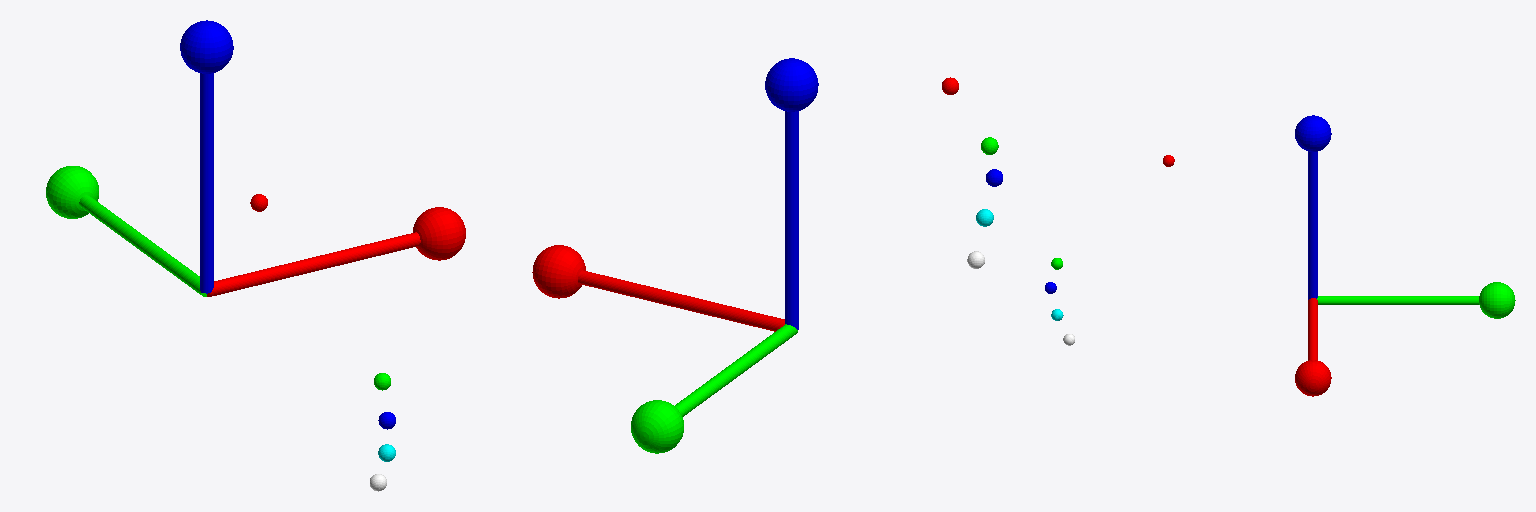
The robot description file, URDF, robot "inspire_hand_left":
<robot name="inspire_hand_left">

  <mujoco>
    <compiler meshdir="./meshes" discardvisual="false" />
  </mujoco>

  <link name="L_hand_base_link">
    <inertial>
      <origin xyz="-0.002551 -0.066047 -0.0019357" rpy="0 0 0" />
      <mass value="0.14143" />
      <inertia ixx="0.0001234" ixy="2.1995E-06" ixz="-1.7694E-06" iyy="8.3835E-05" iyz="1.5968E-06" izz="7.7231E-05" />
    </inertial>
    <visual>
      <origin xyz="0 0 0" rpy="0 0 0" />
      <geometry>
        <mesh filename="./meshes/L_hand_base_link.STL" />
      </geometry>
      <material name="">
        <color rgba="1.0 1.0 1.0 1" />
      </material>
    </visual>
    <collision>
      <origin xyz="0 0 0" rpy="0 0 0" />
      <geometry>
        <mesh filename="./meshes/L_hand_base_link.STL" />
      </geometry>
    </collision>
    <visual>
      <origin xyz="0.075 0 0" rpy="0 -1.5708 0"/>
      <geometry>
        <cylinder length="0.15" radius="0.004"/>
      </geometry>
      <material name="red">
        <color rgba="1 0 0 1"/>
      </material>
    </visual>
    <visual>
      <origin xyz="0.15 0 0" rpy="0 -1.5708 0"/>
      <geometry>
        <sphere radius="0.015"/>
      </geometry>
      <material name="red">
        <color rgba="1 0 0 1"/>
      </material>
    </visual>

    <visual>
      <origin xyz="0 0.075 0" rpy="1.5708 0 0"/>
      <geometry>
        <cylinder length="0.15" radius="0.004"/>
      </geometry>
      <material name="green">
        <color rgba="0 1 0 1"/>
      </material>
    </visual>
    <visual>
      <origin xyz="0 0.15 0" rpy="1.5708 0 0"/>
      <geometry>
        <sphere radius="0.015"/>
      </geometry>
      <material name="green">
        <color rgba="0 1 0 1"/>
      </material>
    </visual>

    <visual>
      <origin xyz="0 0 0.075" rpy="0 0 0"/>
      <geometry>
        <cylinder length="0.15" radius="0.004"/>
      </geometry>
      <material name="blue">
        <color rgba="0 0 1 1"/>
      </material>
    </visual>
    <visual>
      <origin xyz="0 0 0.15" rpy="0 0 0"/>
      <geometry>
        <sphere radius="0.015"/>
      </geometry>
      <material name="blue">
        <color rgba="0 0 1 1"/>
      </material>
    </visual>
  </link>

  <link name="L_thumb_proximal_base">
    <inertial>
      <origin xyz="0.0048817 0.00038782 -0.00722" rpy="0 0 0" />
      <mass value="0.0018869" />
      <inertia ixx="5.5158E-08" ixy="-1.1803E-08" ixz="-4.6743E-09" iyy="8.2164E-08" iyz="-1.3521E-09" izz="6.7434E-08" />
    </inertial>
    <visual>
      <origin xyz="0 0 0" rpy="0 0 0" />
      <geometry>
        <mesh filename="./meshes/Link11_L.STL" />
      </geometry>
      <material name="">
        <color rgba="1.0 1.0 1.0 1" />
      </material>
    </visual>
    <collision>
      <origin xyz="0 0 0" rpy="0 0 0" />
      <geometry>
        <mesh filename="./meshes/Link11_L.STL" />
      </geometry>
    </collision>
  </link>

  <joint name="L_thumb_proximal_yaw_joint" type="revolute">
    <origin xyz="-0.01696 -0.0691 0.02045" rpy="1.5708 -1.5708 0" />
    <parent link="L_hand_base_link" />
    <child link="L_thumb_proximal_base" />
    <axis xyz="0 0 1" />
    <limit lower="-0.1" upper="1.3" effort="1" velocity="0.5" />
  </joint>

  <link name="L_thumb_proximal">
    <inertial>
      <origin xyz="0.021936 -0.01279 -0.0080386" rpy="0 0 0" />
      <mass value="0.0066101" />
      <inertia ixx="1.5693E-06" ixy="7.8339E-07" ixz="8.5959E-10" iyy="1.7356E-06" iyz="1.0378E-09" izz="2.787E-06" />
    </inertial>
    <visual>
      <origin xyz="0 0 0" rpy="0 0 0" />
      <geometry>
        <mesh filename="./meshes/Link12_L.STL" />
      </geometry>
      <material name="">
        <color rgba="1.0 1.0 1.0 1" />
      </material>
    </visual>
    <collision>
      <origin xyz="0 0 0" rpy="0 0 0" />
      <geometry>
        <mesh filename="./meshes/Link12_L.STL" />
      </geometry>
    </collision>
  </link>

  <joint name="L_thumb_proximal_pitch_joint" type="revolute">
    <origin xyz="0.0099867 0.0098242 -0.0089" rpy="-1.5708 0 0.16939" />
    <parent link="L_thumb_proximal_base" />
    <child link="L_thumb_proximal" />
    <axis xyz="0 0 -1" />
    <limit lower="0.0" upper="0.5" effort="1" velocity="0.5" />
  </joint>

  <link name="L_thumb_intermediate">
    <inertial>
      <origin xyz="0.0095531 0.0016282 -0.0072002" rpy="0 0 0" />
      <mass value="0.0037844" />
      <inertia ixx="3.6981E-07" ixy="9.8603E-08" ixz="-2.8173E-12" iyy="3.2395E-07" iyz="-2.8028E-12" izz="4.6532E-07" />
    </inertial>
    <visual>
      <origin xyz="0 0 0" rpy="0 0 0" />
      <geometry>
        <mesh filename="./meshes/Link13_L.STL" />
      </geometry>
      <material name="">
        <color rgba="1.0 1.0 1.0 1" />
      </material>
    </visual>
    <collision>
      <origin xyz="0 0 0" rpy="0 0 0" />
      <geometry>
        <mesh filename="./meshes/Link13_L.STL" />
      </geometry>
    </collision>
  </link>

  <joint name="L_thumb_intermediate_joint" type="revolute">
    <origin xyz="0.04407 -0.034553 -0.0008" rpy="0 0 0" />
    <parent link="L_thumb_proximal" />
    <child link="L_thumb_intermediate" />
    <axis xyz="0 0 -1" />
    <limit lower="0" upper="0.8" effort="1" velocity="0.5" />
    <mimic joint="L_thumb_proximal_pitch_joint" multiplier="1.6" offset="0" />
  </joint>

  <link name="L_thumb_distal">
    <inertial>
      <origin xyz="0.0092888 -0.004953 -0.0060033" rpy="0 0 0" />
      <mass value="0.003344" />
      <inertia ixx="1.3632E-07" ixy="5.6787E-08" ixz="-9.1939E-11" iyy="1.4052E-07" iyz="1.2145E-10" izz="2.0026E-07" />
    </inertial>
    <visual>
      <origin xyz="0 0 0" rpy="0 0 0" />
      <geometry>
        <mesh filename="./meshes/Link14_L.STL" />
      </geometry>
      <material name="">
        <color rgba="1.0 1.0 1.0 1" />
      </material>
    </visual>
    <collision>
      <origin xyz="0 0 0" rpy="0 0 0" />
      <geometry>
        <mesh filename="./meshes/Link14_L.STL" />
      </geometry>
    </collision>
  </link>

  <joint name="L_thumb_distal_joint" type="revolute">
    <origin xyz="0.020248 -0.010156 -0.0012" rpy="0 0 0" />
    <parent link="L_thumb_intermediate" />
    <child link="L_thumb_distal" />
    <axis xyz="0 0 -1" />
    <limit lower="0" upper="1.2" effort="1" velocity="0.5" />
    <mimic joint="L_thumb_proximal_pitch_joint" multiplier="2.4" offset="0" />
  </joint>

  <link name="L_index_proximal">
    <inertial>
      <origin xyz="0.0012971 -0.011934 -0.0059998" rpy="0 0 0" />
      <mass value="0.0042405" />
      <inertia ixx="6.6215E-07" ixy="1.8442E-08" ixz="1.3746E-12" iyy="2.1167E-07" iyz="-1.4773E-11" izz="6.9402E-07" />
    </inertial>
    <visual>
      <origin xyz="0 0 0" rpy="0 0 0" />
      <geometry>
        <mesh filename="./meshes/Link15_L.STL" />
      </geometry>
      <material name="">
        <color rgba="1.0 1.0 1.0 1" />
      </material>
    </visual>
    <collision>
      <origin xyz="0 0 0" rpy="0 0 0" />
      <geometry>
        <mesh filename="./meshes/Link15_L.STL" />
      </geometry>
    </collision>
  </link>

  <link name="L_thumb_tip">
    <visual>
      <origin xyz="0 0 0" rpy="0 0 0" />
      <geometry>
        <sphere radius="0.005"/>
      </geometry>
      <material name="red">
        <color rgba="1 0 0 1" />
      </material>
    </visual>
  </link>
  <joint name="L_thumb_tip_joint" type="fixed">
    <parent link="L_thumb_distal"/>
    <child link="L_thumb_tip"/>
    <origin rpy="0 0 0" xyz="0.015 -0.013 -0.004"/>
  </joint>

  <joint name="L_index_proximal_joint" type="revolute">
    <origin xyz="0.00028533 -0.13653 0.032268" rpy="-0.034907 0 0" />
    <parent link="L_hand_base_link" />
    <child link="L_index_proximal" />
    <axis xyz="0 0 -1" />
    <limit lower="0" upper="1.7" effort="1" velocity="0.5" />
  </joint>

  <link name="L_index_intermediate">
    <inertial>
      <origin xyz="0.0021753 -0.019567 -0.005" rpy="0 0 0" />
      <mass value="0.0045682" />
      <inertia ixx="7.6284E-07" ixy="-8.063E-08" ixz="3.6797E-13" iyy="9.4308E-08" iyz="1.5743E-13" izz="7.8176E-07" />
    </inertial>
    <visual>
      <origin xyz="0 0 0" rpy="0 0 0" />
      <geometry>
        <mesh filename="./meshes/Link16_L.STL" />
      </geometry>
      <material name="">
        <color rgba="1.0 1.0 1.0 1" />
      </material>
    </visual>
    <collision>
      <origin xyz="0 0 0" rpy="0 0 0" />
      <geometry>
        <mesh filename="./meshes/Link16_L.STL" />
      </geometry>
    </collision>
  </link>

  <joint name="L_index_intermediate_joint" type="revolute">
    <origin xyz="-0.0024229 -0.032041 -0.001" rpy="0 0 0" />
    <parent link="L_index_proximal" />
    <child link="L_index_intermediate" />
    <axis xyz="0 0 -1" />
    <limit lower="0" upper="1.7" effort="1" velocity="0.5" />
    <mimic joint="L_index_proximal_joint" multiplier="1" offset="0" />
  </joint>

  <link name="L_index_tip">
    <visual>
      <origin xyz="0 0 0" rpy="0 0 0" />
      <geometry>
        <sphere radius="0.005"/>
      </geometry>
      <material name="green">
        <color rgba="0 1 0 1" />
      </material>
    </visual>
  </link>
  <joint name="L_index_tip_joint" type="fixed">
    <parent link="L_index_intermediate"/>
    <child link="L_index_tip"/>
    <origin rpy="0 0 0" xyz="-0.005 -0.04 -0.004"/>
  </joint>

  <link name="L_middle_proximal">
    <inertial>
      <origin xyz="0.0012971 -0.011934 -0.0059999" rpy="0 0 0" />
      <mass value="0.0042405" />
      <inertia ixx="6.6215E-07" ixy="1.8442E-08" ixz="1.2299E-12" iyy="2.1167E-07" iyz="-1.4484E-11" izz="6.9402E-07" />
    </inertial>
    <visual>
      <origin xyz="0 0 0" rpy="0 0 0" />
      <geometry>
        <mesh filename="./meshes/Link17_L.STL" />
      </geometry>
      <material name="">
        <color rgba="1.0 1.0 1.0 1" />
      </material>
    </visual>
    <collision>
      <origin xyz="0 0 0" rpy="0 0 0" />
      <geometry>
        <mesh filename="./meshes/Link17_L.STL" />
      </geometry>
    </collision>
  </link>

  <joint name="L_middle_proximal_joint" type="revolute">
    <origin xyz="0.00028533 -0.1371 0.01295" rpy="0 0 0" />
    <parent link="L_hand_base_link" />
    <child link="L_middle_proximal" />
    <axis xyz="0 0 -1" />
    <limit lower="0" upper="1.7" effort="1" velocity="0.5" />
  </joint>

  <link name="L_middle_intermediate">
    <inertial>
      <origin xyz="0.001921 -0.020796 -0.0049999" rpy="0 0 0" />
      <mass value="0.0050397" />
      <inertia ixx="9.5823E-07" ixy="-1.1425E-07" ixz="-2.4186E-12" iyy="1.0646E-07" iyz="3.6974E-12" izz="9.8385E-07" />
    </inertial>
    <visual>
      <origin xyz="0 0 0" rpy="0 0 0" />
      <geometry>
        <mesh filename="./meshes/Link18_L.STL" />
      </geometry>
      <material name="">
        <color rgba="1.0 1.0 1.0 1" />
      </material>
    </visual>
    <collision>
      <origin xyz="0 0 0" rpy="0 0 0" />
      <geometry>
        <mesh filename="./meshes/Link18_L.STL" />
      </geometry>
    </collision>
  </link>

  <joint name="L_middle_intermediate_joint" type="revolute">
    <origin xyz="-0.0024229 -0.032041 -0.001" rpy="0 0 0" />
    <parent link="L_middle_proximal" />
    <child link="L_middle_intermediate" />
    <axis xyz="0 0 -1" />
    <limit lower="0" upper="1.7" effort="1" velocity="0.5" />
    <mimic joint="L_middle_proximal_joint" multiplier="1" offset="0" />
  </joint>

  <link name="L_middle_tip">
    <visual>
      <origin xyz="0 0 0" rpy="0 0 0" />
      <geometry>
        <sphere radius="0.005"/>
      </geometry>
      <material name="blue">
        <color rgba="0 0 1 1" />
      </material>
    </visual>
  </link>
  <joint name="L_middle_tip_joint" type="fixed">
    <parent link="L_middle_intermediate"/>
    <child link="L_middle_tip"/>
    <origin rpy="0 0 0" xyz="-0.005 -0.045 -0.004"/>
  </joint>

  <link name="L_ring_proximal">
    <inertial>
      <origin xyz="0.0012971 -0.011934 -0.0059999" rpy="0 0 0" />
      <mass value="0.0042405" />
      <inertia ixx="6.6215E-07" ixy="1.8442E-08" ixz="9.6052E-13" iyy="2.1167E-07" iyz="-1.4124E-11" izz="6.9402E-07" />
    </inertial>
    <visual>
      <origin xyz="0 0 0" rpy="0 0 0" />
      <geometry>
        <mesh filename="./meshes/Link19_L.STL" />
      </geometry>
      <material name="">
        <color rgba="1.0 1.0 1.0 1" />
      </material>
    </visual>
    <collision>
      <origin xyz="0 0 0" rpy="0 0 0" />
      <geometry>
        <mesh filename="./meshes/Link19_L.STL" />
      </geometry>
    </collision>
  </link>

  <joint name="L_ring_proximal_joint" type="revolute">
    <origin xyz="0.00028533 -0.13691 -0.0062872" rpy="0.05236 0 0" />
    <parent link="L_hand_base_link" />
    <child link="L_ring_proximal" />
    <axis xyz="0 0 -1" />
    <limit lower="0" upper="1.7" effort="1" velocity="0.5" />
  </joint>

  <link name="L_ring_intermediate">
    <inertial>
      <origin xyz="0.0021753 -0.019567 -0.005" rpy="0 0 0" />
      <mass value="0.0045682" />
      <inertia ixx="7.6285E-07" ixy="-8.0631E-08" ixz="3.3472E-14" iyy="9.4308E-08" iyz="-4.4773E-13" izz="7.8176E-07" />
    </inertial>
    <visual>
      <origin xyz="0 0 0" rpy="0 0 0" />
      <geometry>
        <mesh filename="./meshes/Link20_L.STL" />
      </geometry>
      <material name="">
        <color rgba="1.0 1.0 1.0 1" />
      </material>
    </visual>
    <collision>
      <origin xyz="0 0 0" rpy="0 0 0" />
      <geometry>
        <mesh filename="./meshes/Link20_L.STL" />
      </geometry>
    </collision>
  </link>

  <joint name="L_ring_intermediate_joint" type="revolute">
    <origin xyz="-0.0024229 -0.032041 -0.001" rpy="0 0 0" />
    <parent link="L_ring_proximal" />
    <child link="L_ring_intermediate" />
    <axis xyz="0 0 -1" />
    <limit lower="0" upper="1.7" effort="1" velocity="0.5" />
    <mimic joint="L_ring_proximal_joint" multiplier="1" offset="0" />
  </joint>

  <link name="L_ring_tip">
    <visual>
      <origin xyz="0 0 0" rpy="0 0 0" />
      <geometry>
        <sphere radius="0.005"/>
      </geometry>
      <material name="cyan">
        <color rgba="0 1 1 1" />
      </material>
    </visual>
  </link>
  <joint name="L_ring_tip_joint" type="fixed">
    <parent link="L_ring_intermediate"/>
    <child link="L_ring_tip"/>
    <origin rpy="0 0 0" xyz="-0.002 -0.04 -0.004"/>
  </joint>

  <link name="L_pinky_proximal">
    <inertial>
      <origin xyz="0.0012971 -0.011934 -0.0059999" rpy="0 0 0" />
      <mass value="0.0042405" />
      <inertia ixx="6.6215E-07" ixy="1.8442E-08" ixz="1.0279E-12" iyy="2.1167E-07" iyz="-1.4277E-11" izz="6.9402E-07" />
    </inertial>
    <visual>
      <origin xyz="0 0 0" rpy="0 0 0" />
      <geometry>
        <mesh filename="./meshes/Link21_L.STL" />
      </geometry>
      <material name="">
        <color rgba="1.0 1.0 1.0 1" />
      </material>
    </visual>
    <collision>
      <origin xyz="0 0 0" rpy="0 0 0" />
      <geometry>
        <mesh filename="./meshes/Link21_L.STL" />
      </geometry>
    </collision>
  </link>

  <joint name="L_pinky_proximal_joint" type="revolute">
    <origin xyz="0.00028533 -0.13571 -0.025488" rpy="0.10472 0 0" />
    <parent link="L_hand_base_link" />
    <child link="L_pinky_proximal" />
    <axis xyz="0 0 -1" />
    <limit lower="0" upper="1.7" effort="1" velocity="0.5" />
  </joint>

  <link name="L_pinky_intermediate">
    <inertial>
      <origin xyz="0.0024788 -0.016208 -0.0050001" rpy="0 0 0" />
      <mass value="0.0036036" />
      <inertia ixx="4.3923E-07" ixy="-4.1355E-08" ixz="1.2263E-12" iyy="7.0315E-08" iyz="3.1311E-12" izz="4.4881E-07" />
    </inertial>
    <visual>
      <origin xyz="0 0 0" rpy="0 0 0" />
      <geometry>
        <mesh filename="./meshes/Link22_L.STL" />
      </geometry>
      <material name="">
        <color rgba="1.0 1.0 1.0 1" />
      </material>
    </visual>
    <collision>
      <origin xyz="0 0 0" rpy="0 0 0" />
      <geometry>
        <mesh filename="./meshes/Link22_L.STL" />
      </geometry>
    </collision>
  </link>

  <joint name="L_pinky_intermediate_joint" type="revolute">
    <origin xyz="-0.0024229 -0.032041 -0.001" rpy="0 0 0" />
    <parent link="L_pinky_proximal" />
    <child link="L_pinky_intermediate" />
    <axis xyz="0 0 -1" />
    <limit lower="0" upper="1.7" effort="1" velocity="0.5" />
    <mimic joint="L_pinky_proximal_joint" multiplier="1" offset="0" />
  </joint>

  <link name="L_pinky_tip">
    <visual>
      <origin xyz="0 0 0" rpy="0 0 0" />
      <geometry>
        <sphere radius="0.005"/>
      </geometry>
      <material name="white">
        <color rgba="1 1 1 1" />
      </material>
    </visual>
  </link>
  <joint name="L_pinky_tip_joint" type="fixed">
    <parent link="L_pinky_intermediate"/>
    <child link="L_pinky_tip"/>
    <origin rpy="0 0 0" xyz="-0.002 -0.032 -0.004"/>
  </joint>

</robot>

--- Render facts (derived) ---
3 views of the same robot in one strip: view 1: azimuth 30°, elevation 25°; view 2: azimuth 150°, elevation 25°; view 3: azimuth 270°, elevation 25° (orthographic).
Robot: inspire_hand_left — 18 links, 17 joints (12 revolute, 5 fixed); root link L_hand_base_link; default pose: every joint at zero.
Links seen in each view (by area): view 1: L_hand_base_link; view 2: L_hand_base_link; view 3: L_hand_base_link.
Boxes of the visible links, x1,y1,x2,y2 form: L_hand_base_link: (46,20,465,296); L_hand_base_link: (532,58,818,453); L_hand_base_link: (1295,115,1515,396).
Bounding box of the posed robot: 0.2042 × 0.3841 × 0.2071 m (x, y, z).
Meshes: 13 distinct files referenced, 0 mesh visuals loaded (none loaded); not drawn: 13 (reference not matched to a file when rendering).